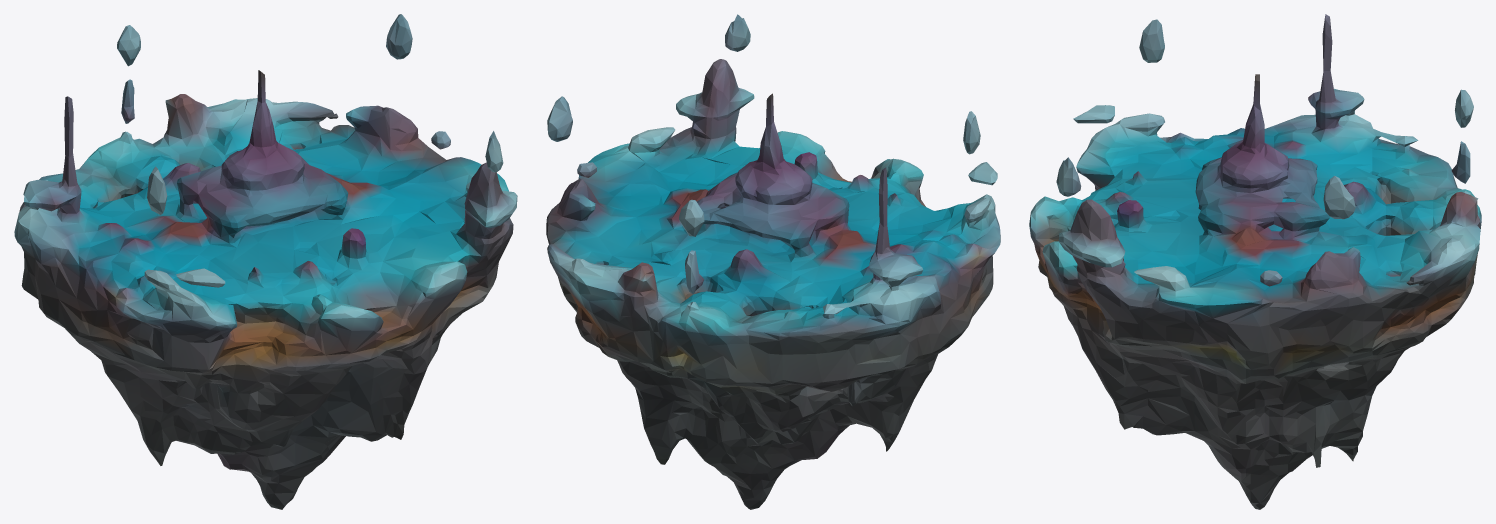
The picture shows the model from 3 angles, left to right: view 1: azimuth 30°, elevation 25°; view 2: azimuth 150°, elevation 25°; view 3: azimuth 270°, elevation 25°; orthographic projection. The views are drawn at different scales.
Size of the model in its own units: 1.52 by 1.56 by 1.5.
